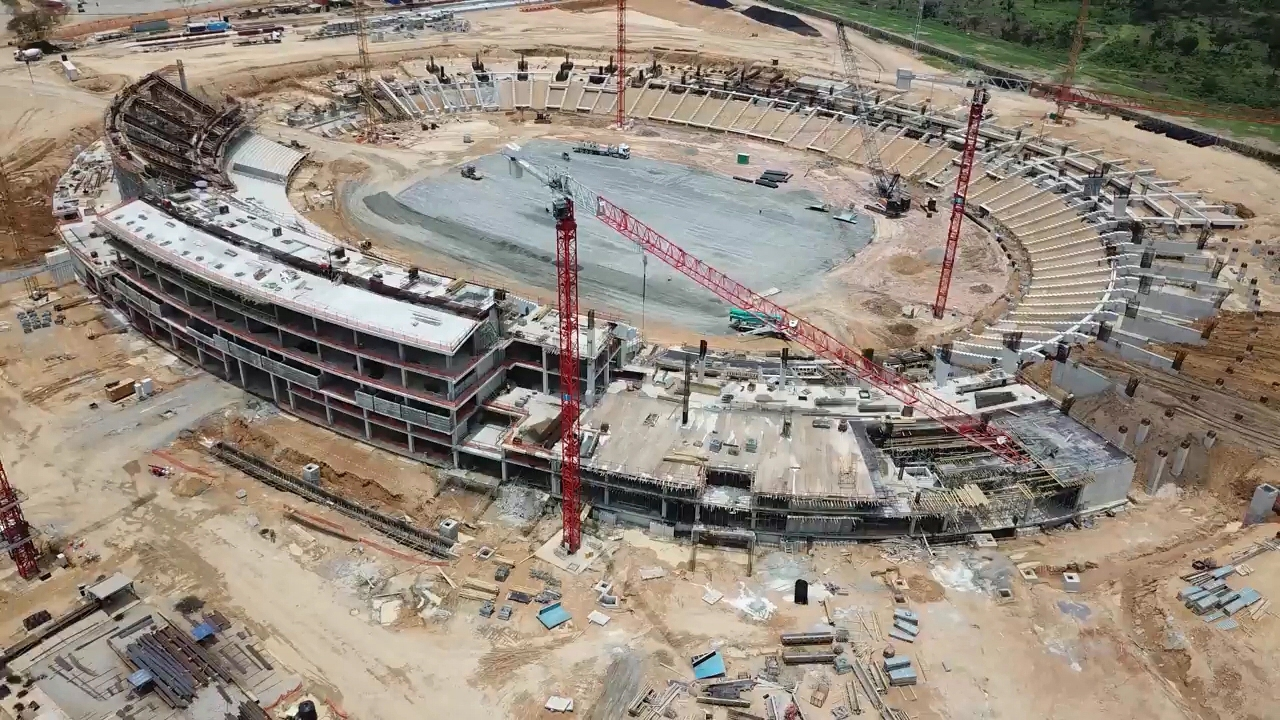kamyon: (568, 137, 634, 160), (9, 43, 44, 65)
traktor: (460, 163, 484, 181)
